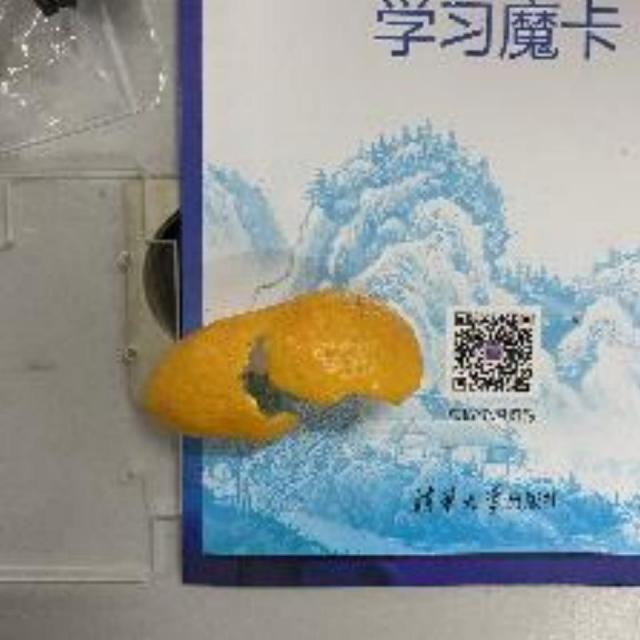orange peel: (130, 286, 429, 448)
